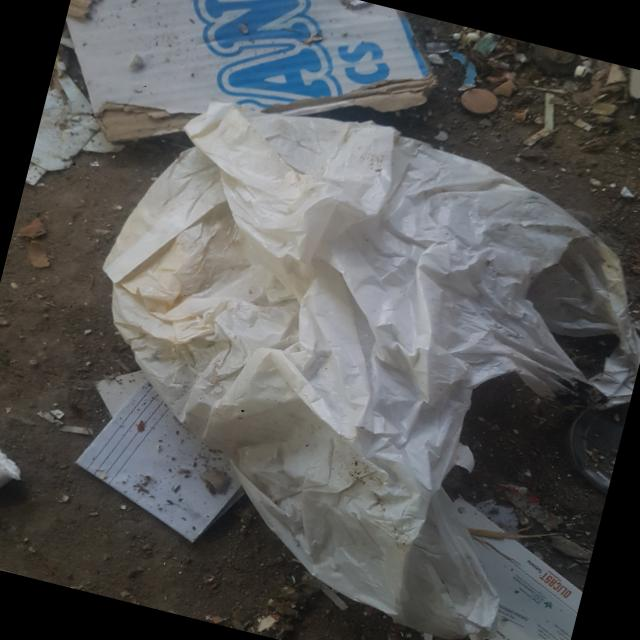electronic: (396, 486, 598, 640)
general: (33, 64, 640, 640)
